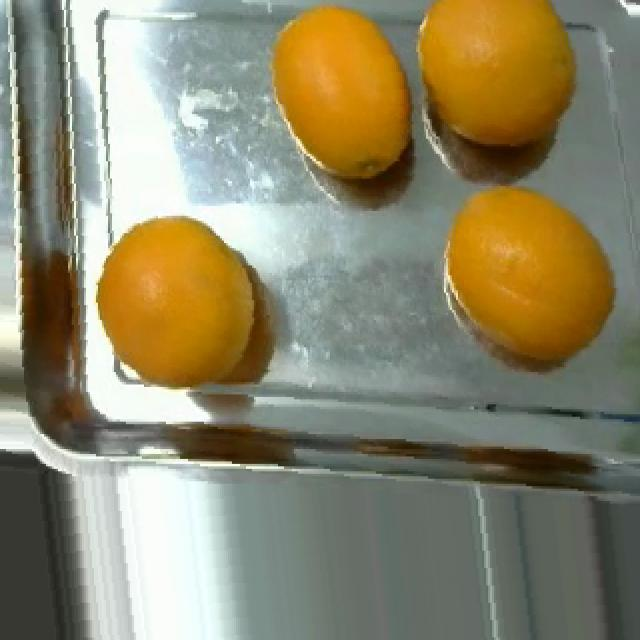Fruit: (252, 0, 414, 203)
